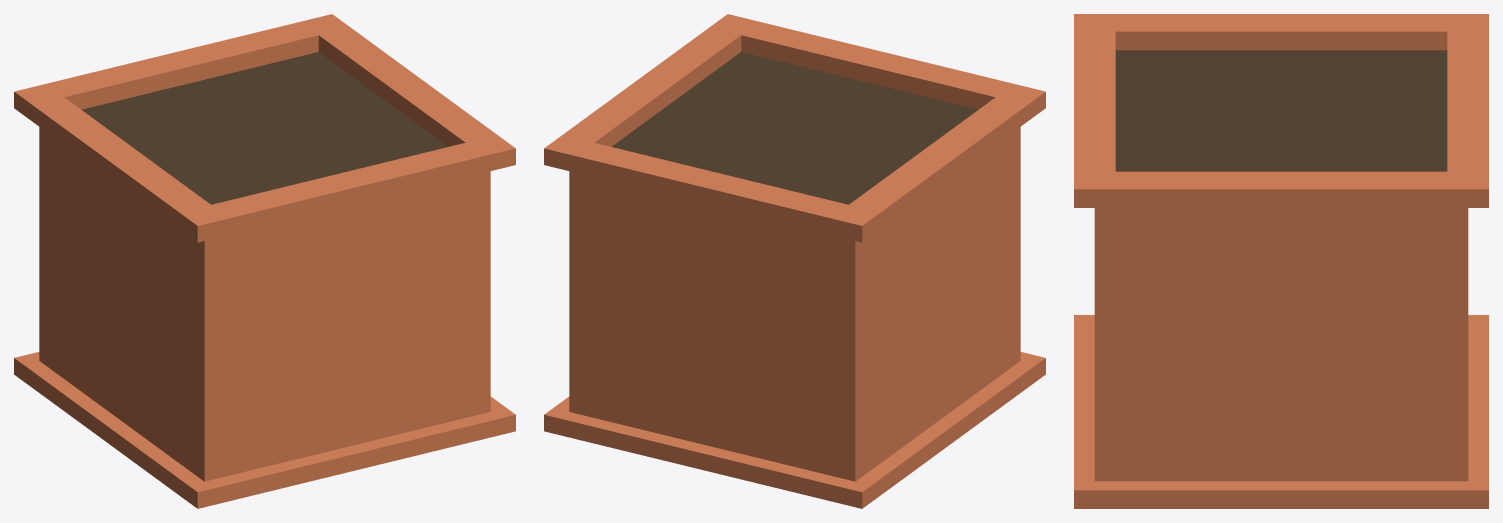
File: pot_4.fbx
3 views of the same model, side by side, from view 1: azimuth 30°, elevation 25°; view 2: azimuth 150°, elevation 25°; view 3: azimuth 270°, elevation 25° (orthographic). The views are drawn at different scales.
Visible parts, largest first — view 1: pot; view 2: pot; view 3: pot.
Part boxes in pixels (left/top/right/bottom): pot: left=14, top=14, right=515, bottom=508; pot: left=544, top=14, right=1045, bottom=508; pot: left=1074, top=14, right=1488, bottom=508.
Size of the model in its own units: 200 by 170 by 200.
